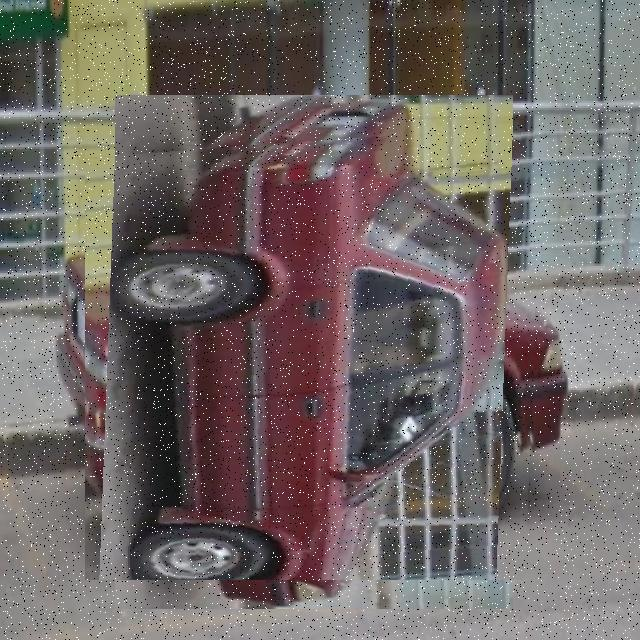car: (86, 125, 543, 581)
